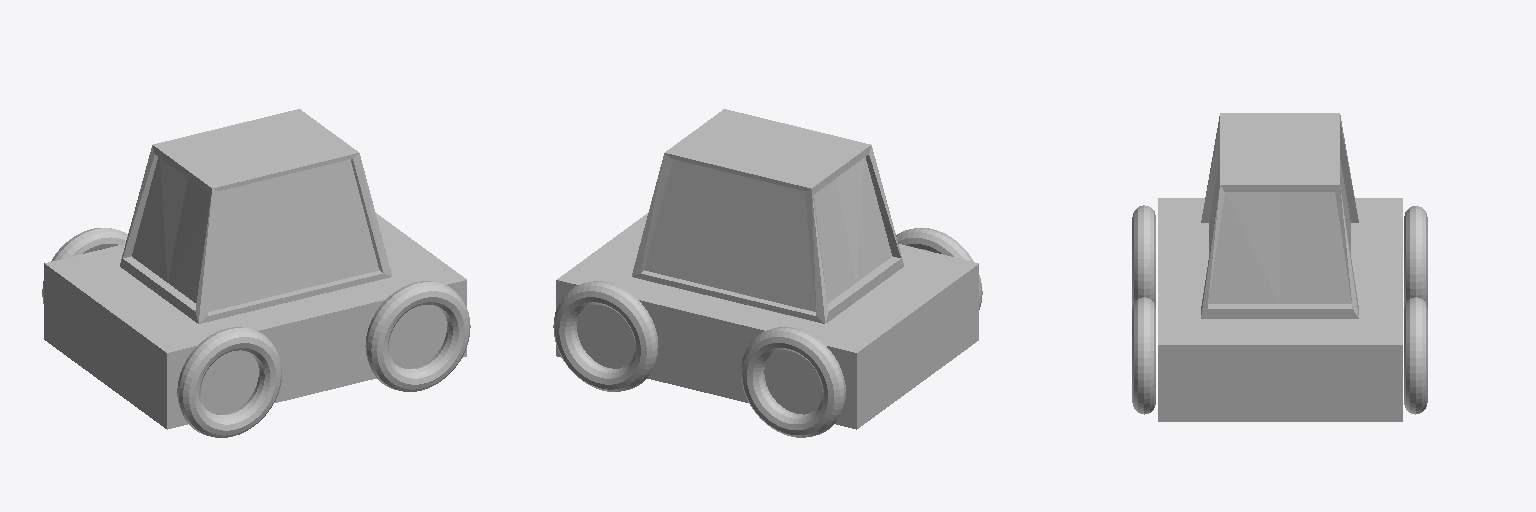
The model's file is car_with_wheels.obj.
The picture shows the model from 3 angles: view 1: azimuth 30°, elevation 25°; view 2: azimuth 150°, elevation 25°; view 3: azimuth 270°, elevation 25°; orthographic projection.
Parts seen in each view (by area): view 1: Cube_Cube.001, Torus, Torus.001, Torus.003; view 2: Cube_Cube.001, Torus.003, Torus.002, Torus; view 3: Cube_Cube.001, Torus.002, Torus.001, Torus, Torus.003.
Boxes of the visible parts, box(x1,y1,x2,y2) form: Cube_Cube.001: box(44, 109, 466, 429); Torus: box(177, 327, 281, 437); Torus.001: box(365, 281, 470, 391); Torus.003: box(42, 228, 127, 303); Cube_Cube.001: box(556, 109, 978, 429); Torus.003: box(741, 327, 845, 437); Torus.002: box(553, 281, 658, 391); Torus: box(896, 228, 982, 309); Cube_Cube.001: box(1158, 113, 1402, 421); Torus.002: box(1404, 297, 1427, 414); Torus.001: box(1132, 297, 1155, 414); Torus: box(1132, 205, 1155, 307); Torus.003: box(1404, 206, 1427, 307).
Bounding box in the file's own units: 3.27 × 2.23 × 2.78.